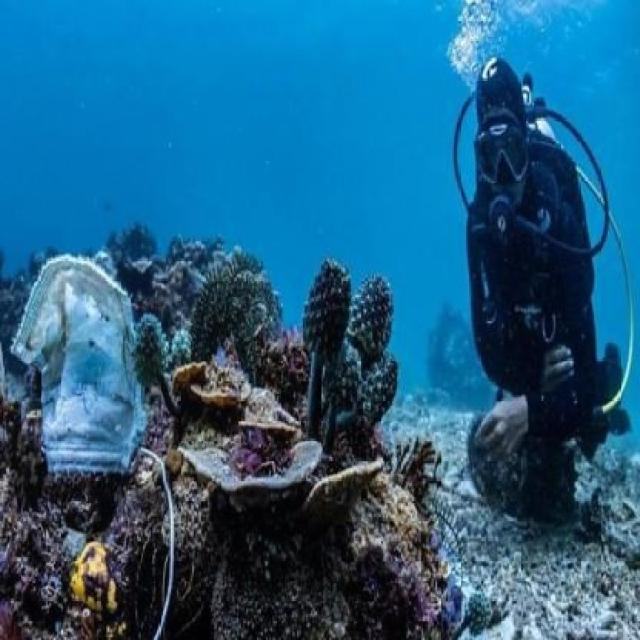Mask: (12, 249, 152, 485)
